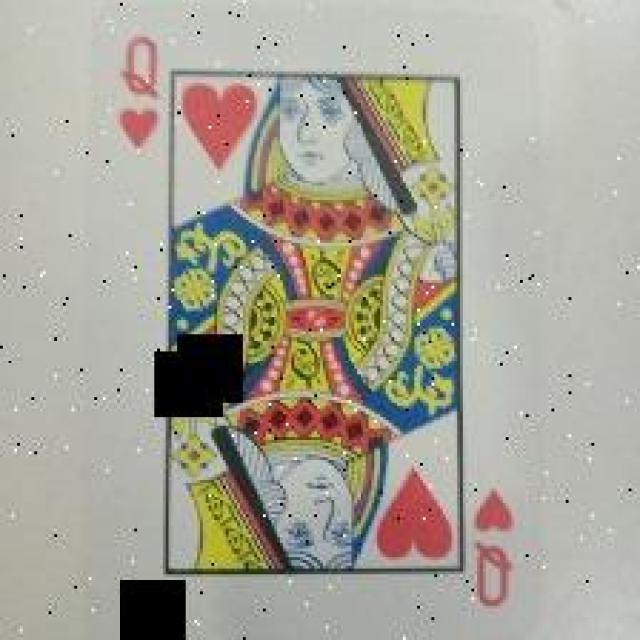Queen of hearts: (97, 12, 515, 612)
